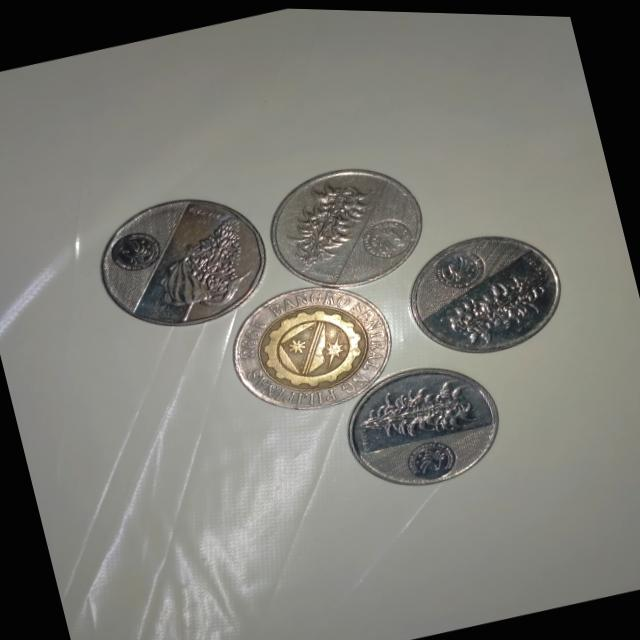10_New_Back: (138, 202, 268, 326)
10_Old_Back: (226, 268, 404, 424)
5_New_Back: (424, 256, 566, 356), (280, 166, 380, 279), (350, 369, 481, 454)
